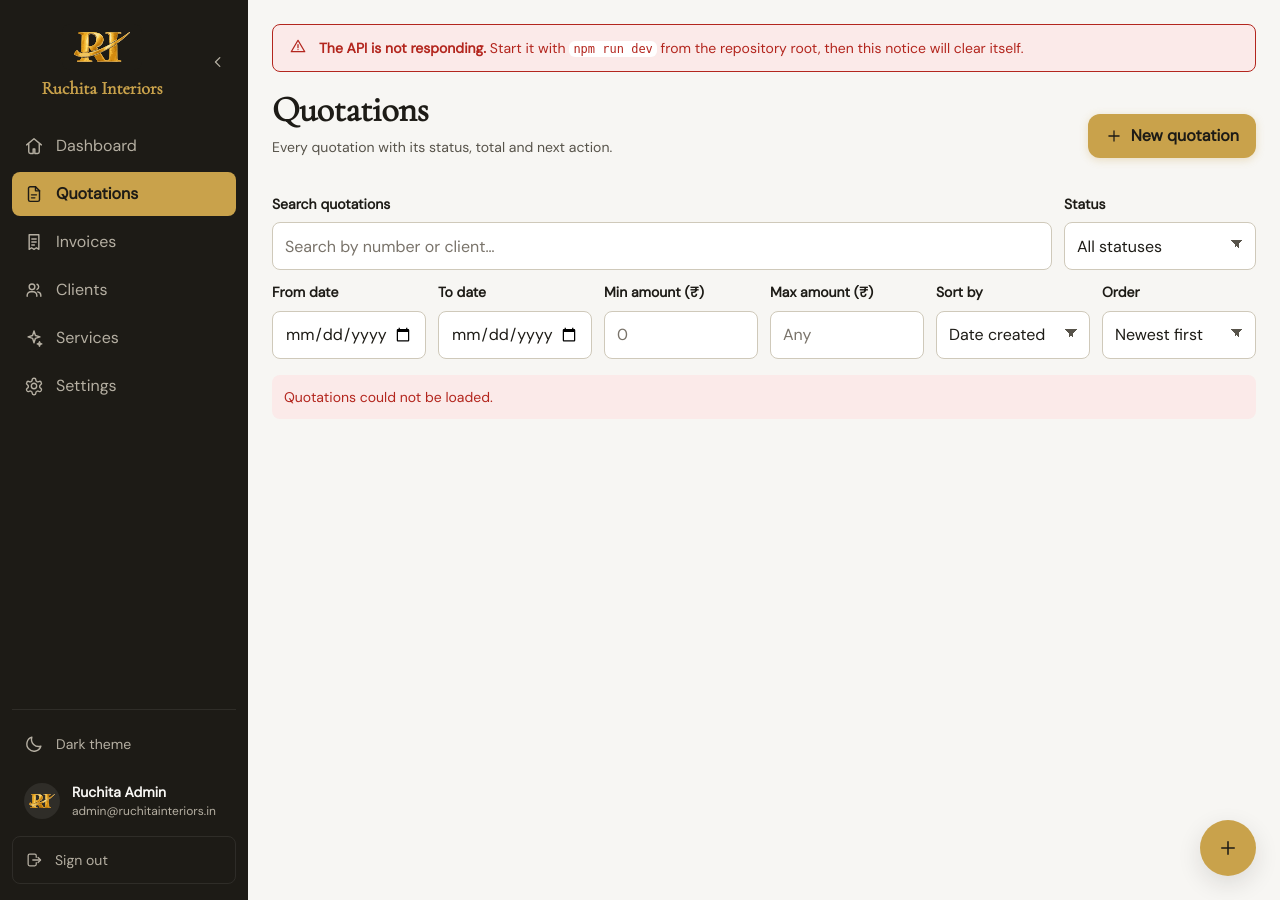
Test: routing › marks the current destination in the navigation
Click the link "Clients" at coordinates (66, 290), box [24,279,108,300]
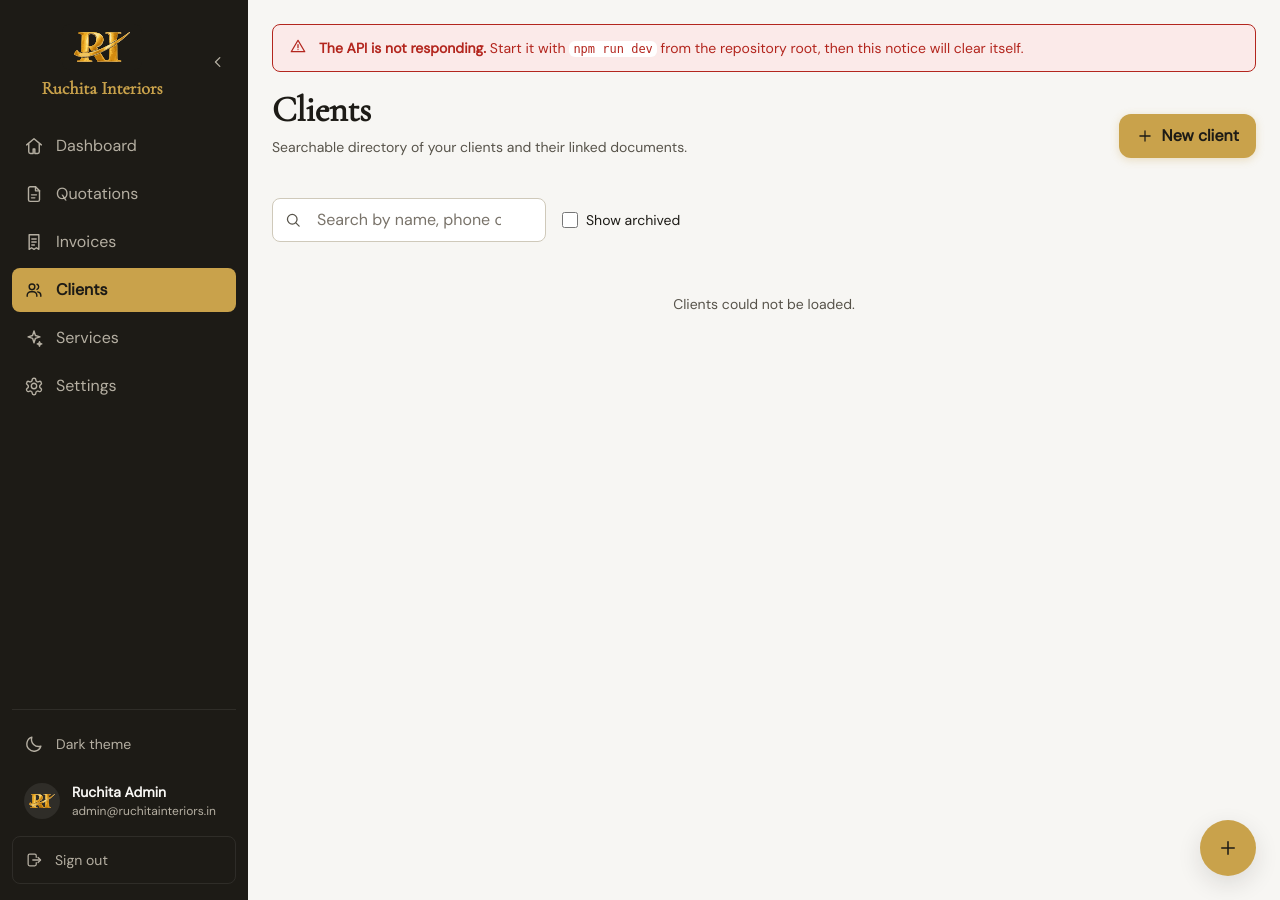
Expected: the heading "Clients" is shown, [272,88,371,131]
